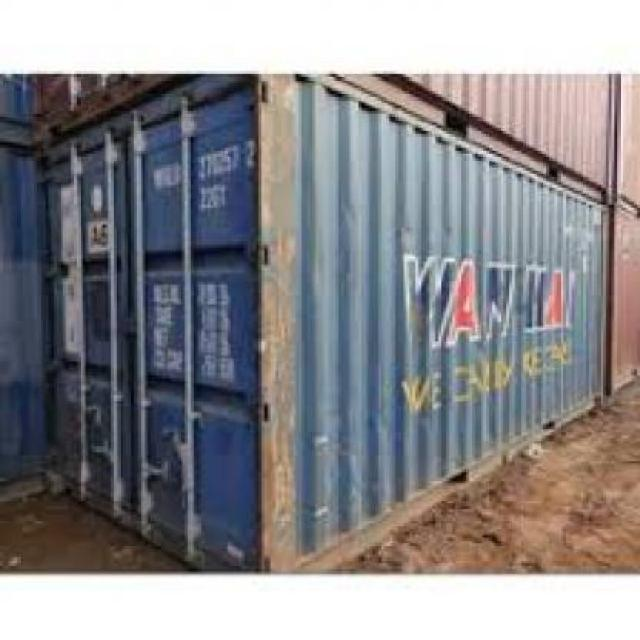ISO: (197, 183, 234, 213)
container_number: (153, 134, 263, 188)
